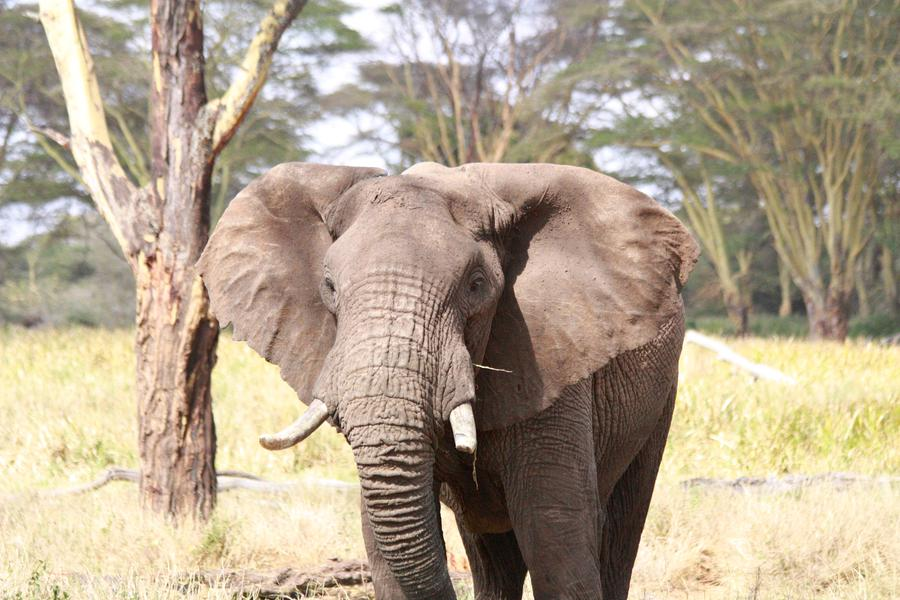elephant: (195, 158, 698, 590)
